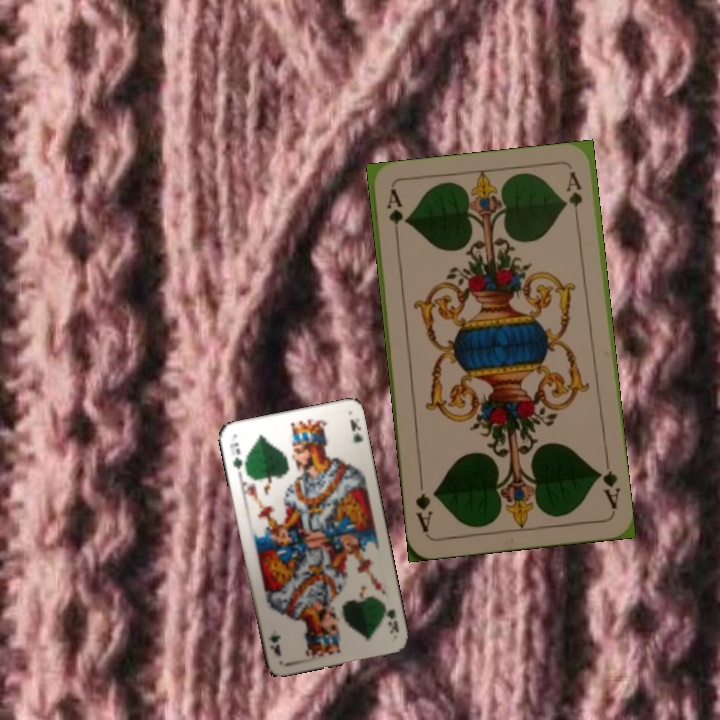GA: (593, 455, 622, 511), (382, 186, 406, 245)
GK: (378, 599, 402, 636), (225, 438, 245, 472)
